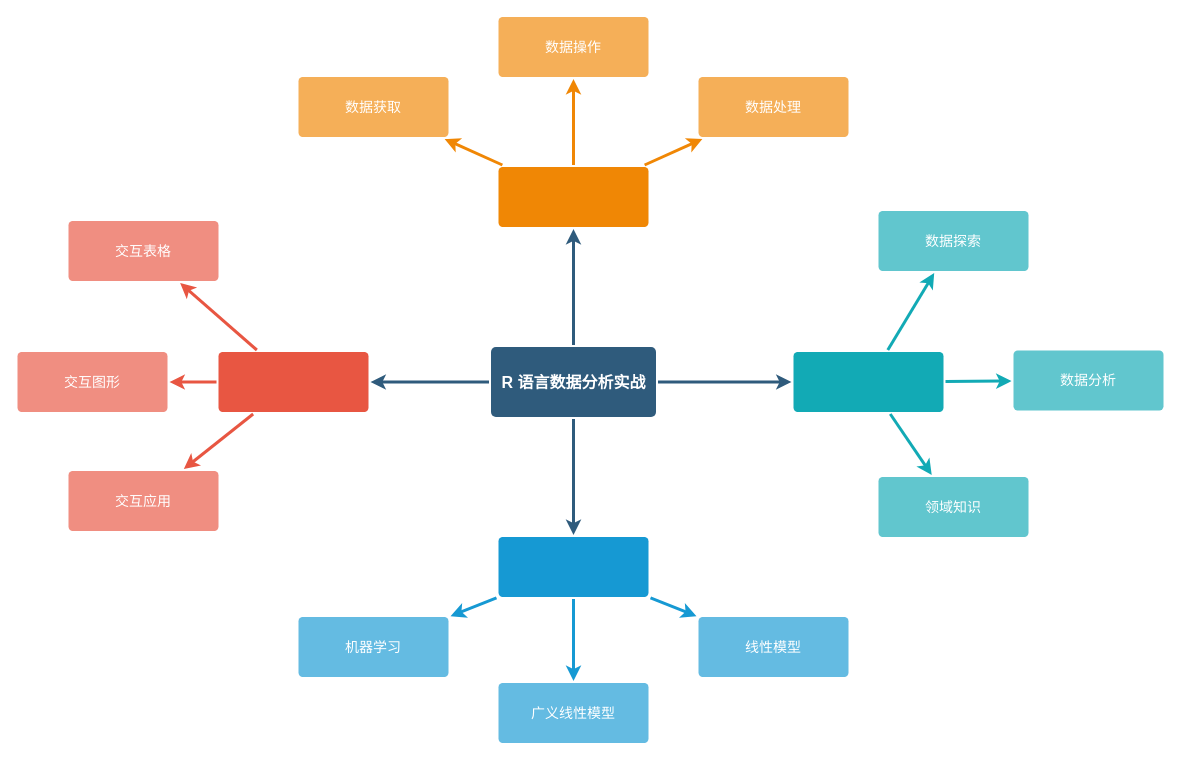
This 1180x760 diagram has some shape labels left out. Each missing label, with the box of its shape:
数据交流和应用: (218, 352, 368, 412)
数据建模和解释: (498, 536, 648, 596)
数据探索和分析: (793, 352, 943, 412)
数据收集和处理: (498, 166, 648, 226)
